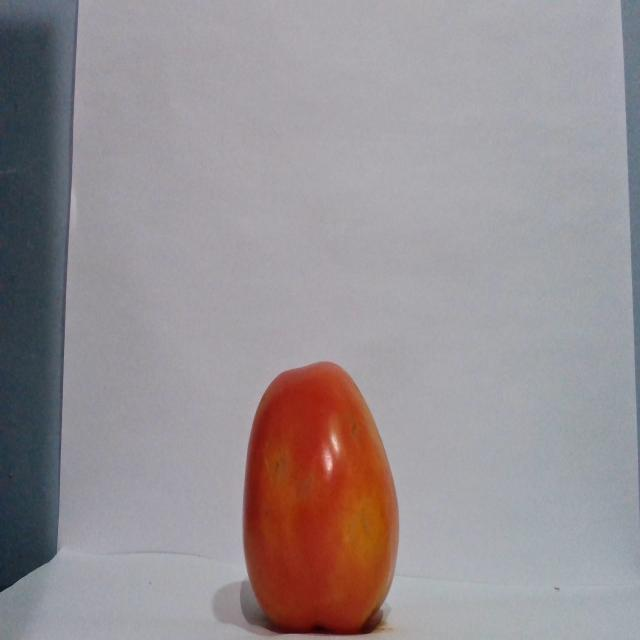Red: (240, 359, 400, 634)
